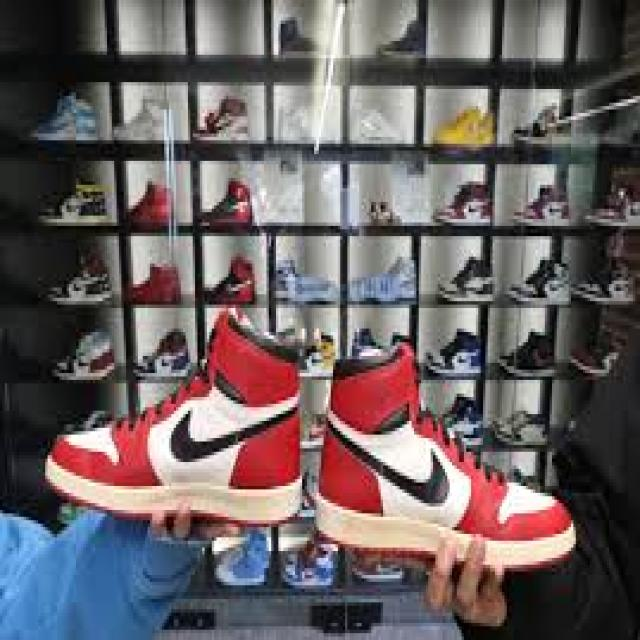shoe: (318, 335, 584, 584), (43, 318, 298, 532)
